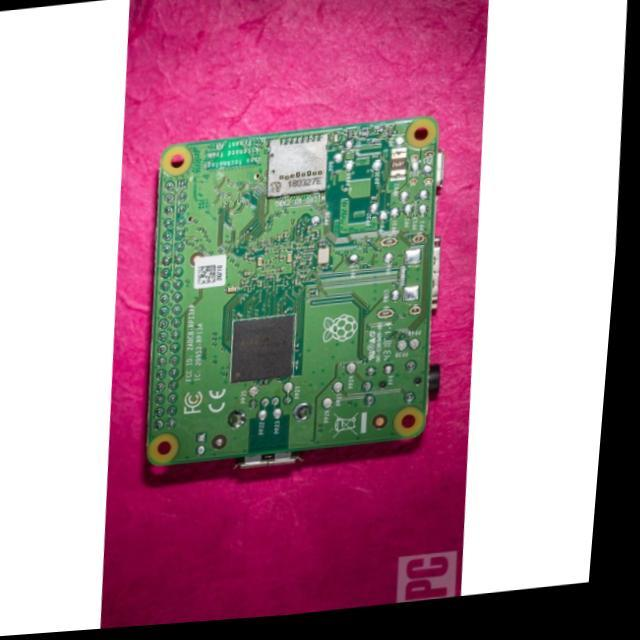Raspberry-Pi-3-A-: (147, 118, 443, 467)
